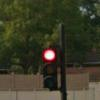Traffic light: (36, 33, 64, 94)
